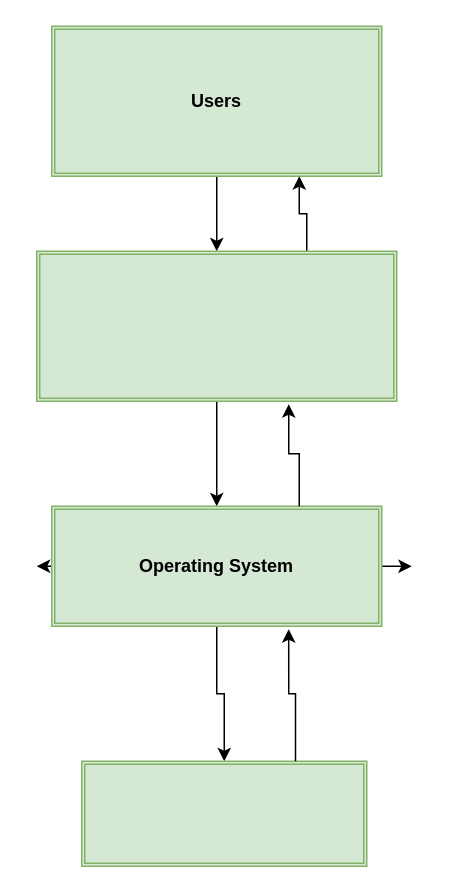
Image size: 450x893. Some labels were removed from this diagram. The shapes that lost their labels are listed below. From the top down, each one's centre as x and y in pixels, then its label:
At (x=216, y=325): "Applications".
At (x=223, y=813): "Hardware".
